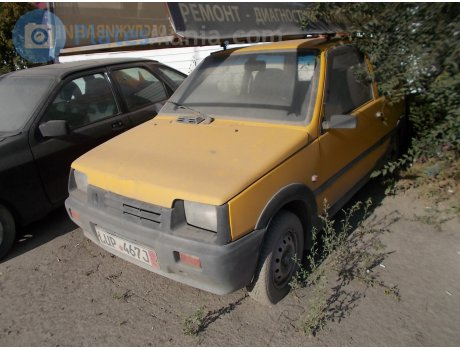License Plates: (93, 231, 158, 265)
